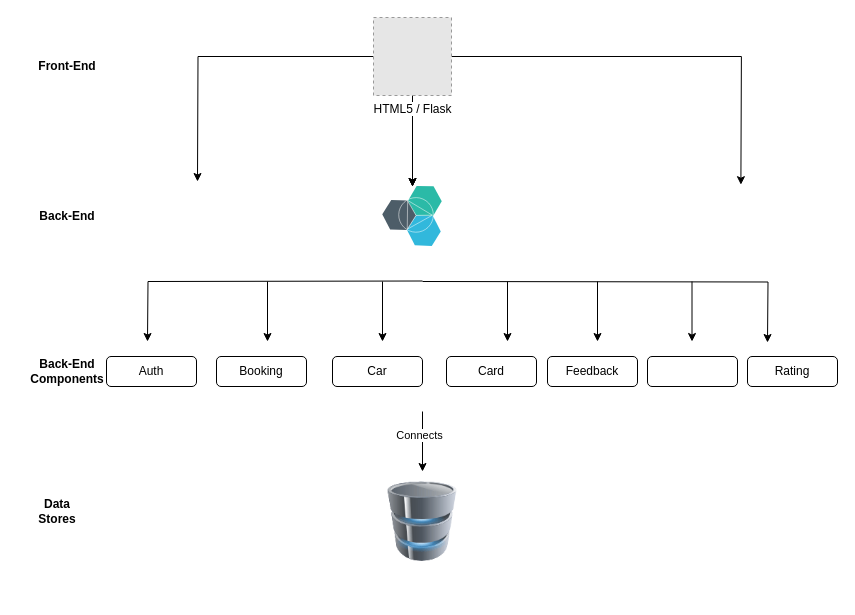
Image size: 855x615. Some labels were removed from this diagram. Grey dashed boxes stand in for pictures. The shapes that lost their labels are listed below. From the top down, each one's centre as x and y in pixels, then its label:
At point (412, 216): "ase-backend service".
At point (692, 371): "Job".
At point (422, 521): "ase database (SQLite)".
